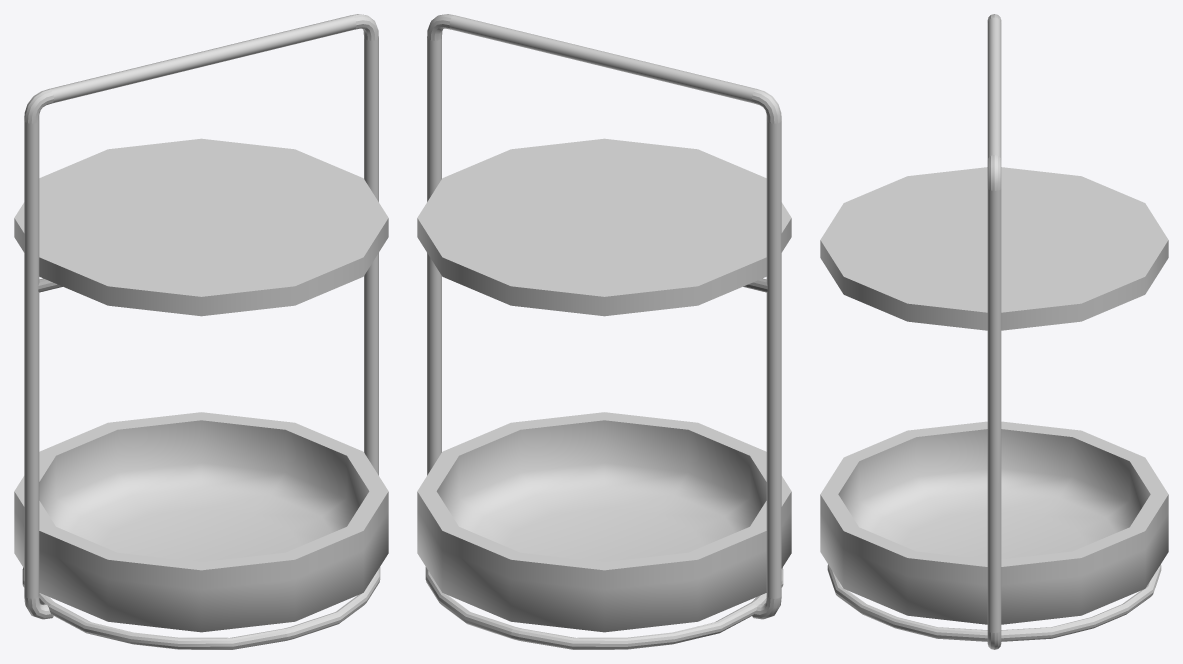
File: Cat Table.fbx
3 renders of one model, left to right at view 1: azimuth 30°, elevation 25°; view 2: azimuth 150°, elevation 25°; view 3: azimuth 270°, elevation 25°, orthographic. The views are drawn at different scales.
Parts seen in each view (by area): view 1: Cat_Table; view 2: Cat_Table; view 3: Cat_Table.
Part boxes in pixels (<box>): Cat_Table: <box>14,14,388,649</box>; Cat_Table: <box>417,14,791,649</box>; Cat_Table: <box>820,14,1168,649</box>.
Size of the model in its own units: 60.59 by 86.71 by 55.69.
